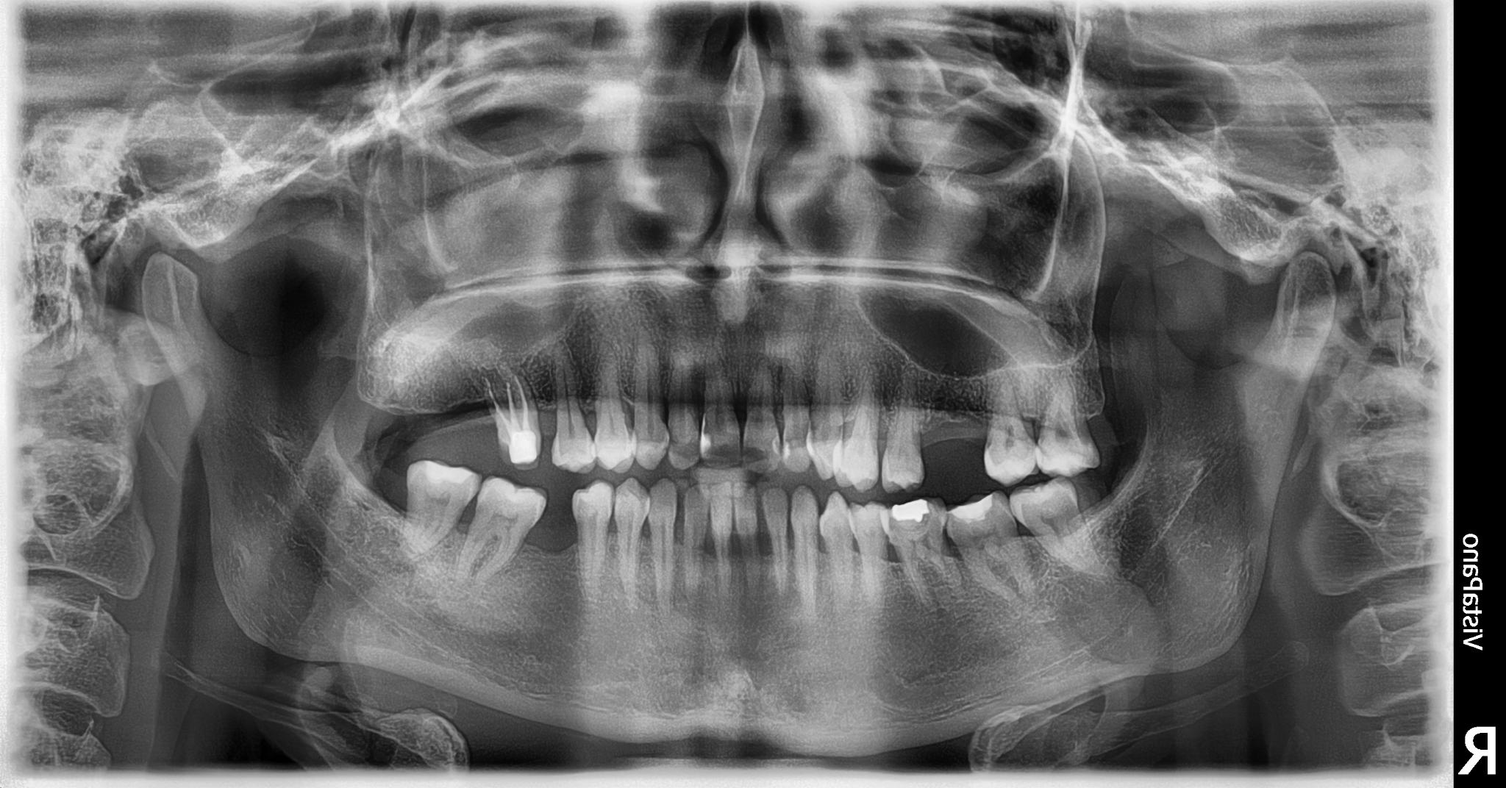Premolars: (474, 287, 1423, 785)
